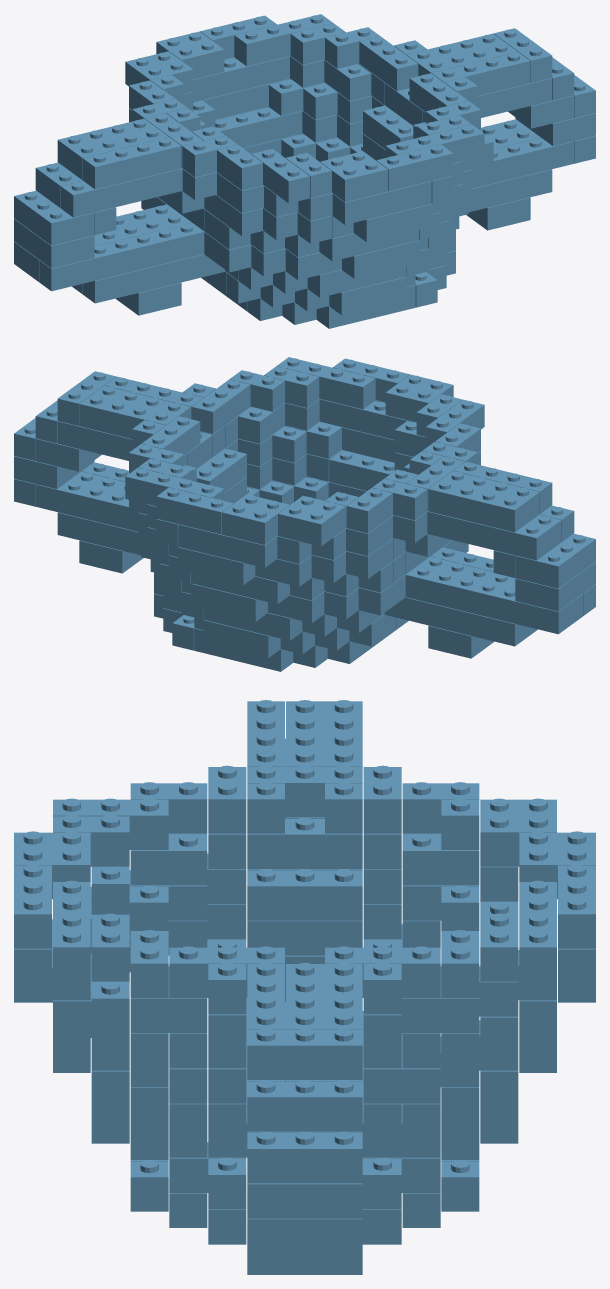
File: collab_pot-L4V5_raw.glb
3 views of the same model, one above another, from view 1: azimuth 30°, elevation 25°; view 2: azimuth 150°, elevation 25°; view 3: azimuth 270°, elevation 25° (orthographic). The views are drawn at different scales.
Bounding box in the file's own units: 24.98 × 8.13 × 14.98.
